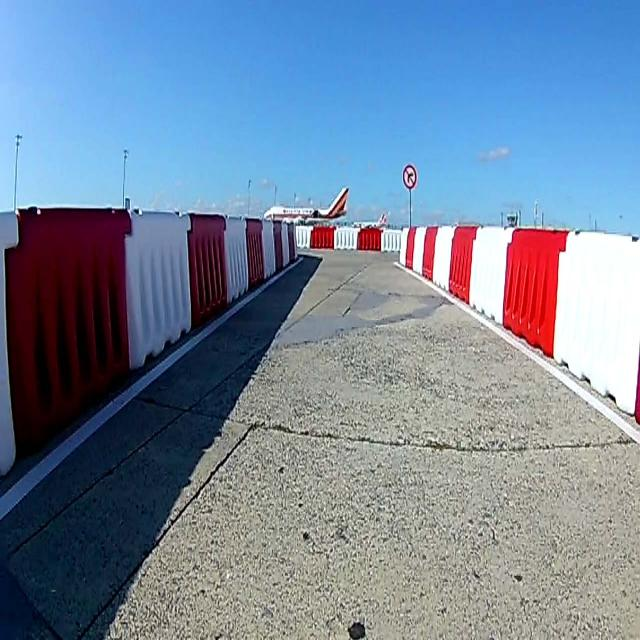sagadonulmez: (403, 165, 416, 188)
